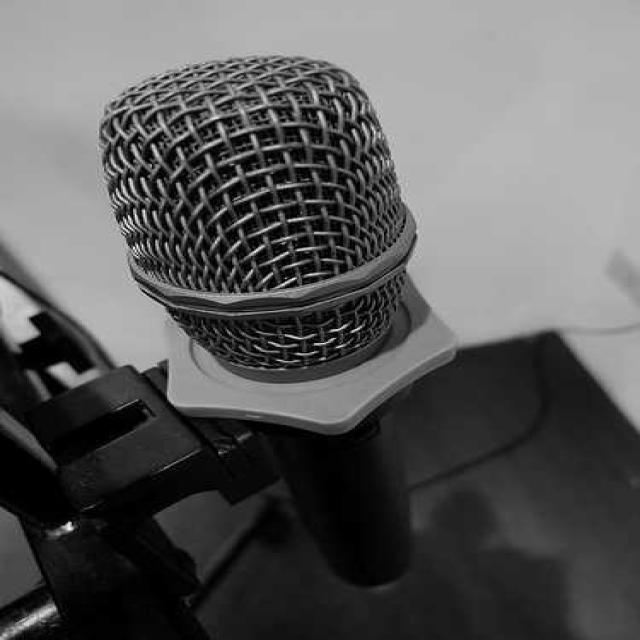microphone: (100, 55, 450, 439)
